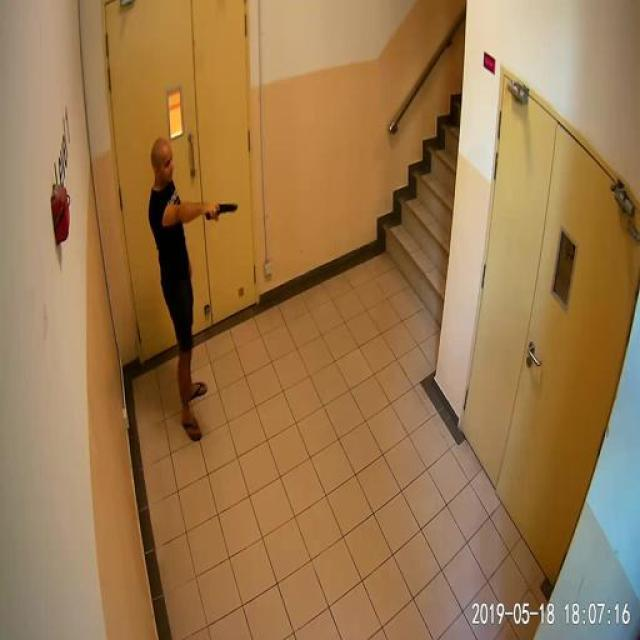Gun: (202, 191, 260, 235)
